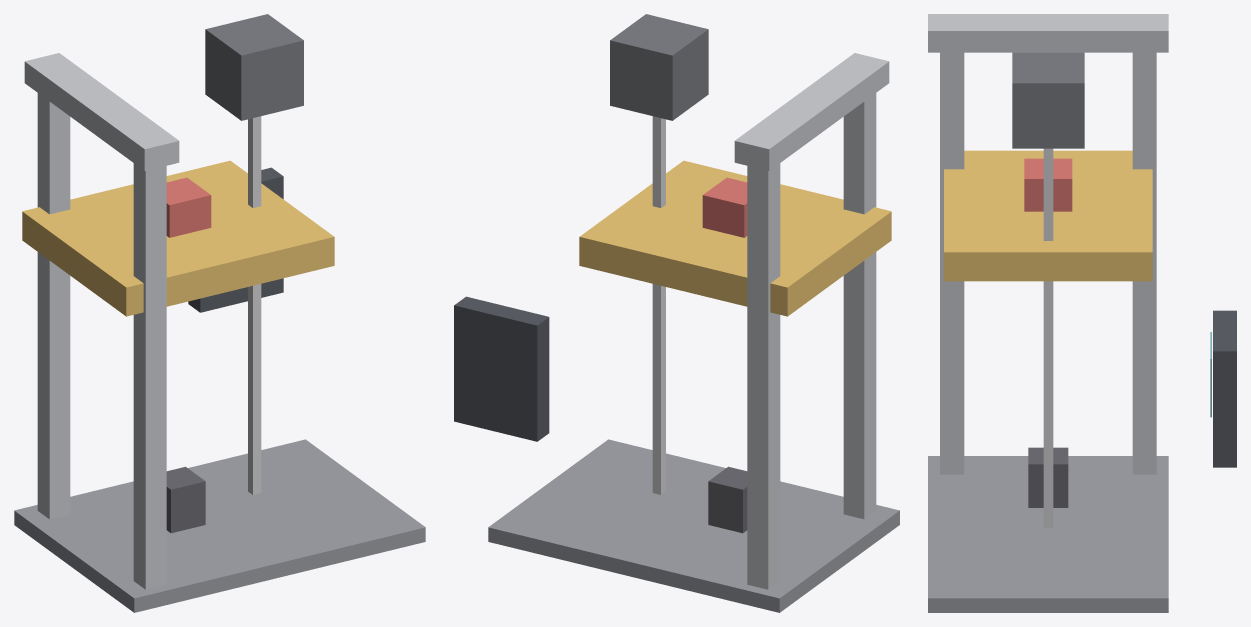
Rendered from tensile_bending_tester_placeholder.glb.
3 renders of one model, left to right at view 1: azimuth 30°, elevation 25°; view 2: azimuth 150°, elevation 25°; view 3: azimuth 270°, elevation 25°, orthographic.
Parts seen in each view (by area): view 1: base_plate, crosshead, column_right, column_left, stepper_motor, top_beam, lead_screw, lower_grip, load_cell, control_panel; view 2: base_plate, crosshead, column_left, column_right, control_panel, stepper_motor, top_beam, lead_screw, lower_grip, load_cell; view 3: base_plate, crosshead, top_beam, column_left, column_right, stepper_motor, control_panel, lead_screw, load_cell, lower_grip.
Boxes of the visible parts, x1=… form: base_plate: x1=14, y1=439, x2=425, y2=612; crosshead: x1=22, y1=160, x2=334, y2=316; column_right: x1=133, y1=163, x2=166, y2=589; column_left: x1=37, y1=93, x2=70, y2=519; stepper_motor: x1=205, y1=14, x2=303, y2=120; top_beam: x1=24, y1=53, x2=179, y2=170; lead_screw: x1=248, y1=116, x2=261, y2=494; lower_grip: x1=166, y1=466, x2=205, y2=533; load_cell: x1=166, y1=177, x2=211, y2=237; control_panel: x1=188, y1=167, x2=283, y2=312; base_plate: x1=488, y1=439, x2=899, y2=612; crosshead: x1=579, y1=160, x2=891, y2=316; column_left: x1=747, y1=163, x2=780, y2=589; column_right: x1=843, y1=93, x2=876, y2=519; control_panel: x1=454, y1=296, x2=549, y2=441; stepper_motor: x1=610, y1=14, x2=708, y2=120; top_beam: x1=734, y1=53, x2=889, y2=170; lead_screw: x1=652, y1=116, x2=665, y2=494; lower_grip: x1=708, y1=466, x2=747, y2=533; load_cell: x1=702, y1=177, x2=747, y2=237; base_plate: x1=928, y1=456, x2=1168, y2=612; crosshead: x1=944, y1=150, x2=1152, y2=281; top_beam: x1=928, y1=14, x2=1168, y2=52; column_left: x1=1132, y1=52, x2=1156, y2=474; column_right: x1=940, y1=52, x2=964, y2=474; stepper_motor: x1=1012, y1=52, x2=1084, y2=148; control_panel: x1=1213, y1=310, x2=1236, y2=467; lead_screw: x1=1043, y1=148, x2=1053, y2=527; load_cell: x1=1024, y1=158, x2=1072, y2=211; lower_grip: x1=1028, y1=447, x2=1068, y2=507.
Size of the model in its own units: 0.42 by 0.675 by 0.385.
